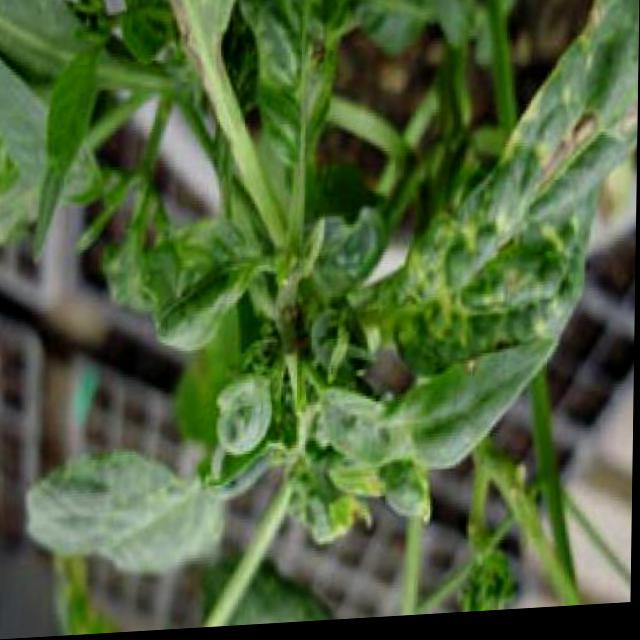Tomato yellow virus leaf: (378, 0, 634, 391), (138, 203, 276, 355), (234, 0, 339, 172)
